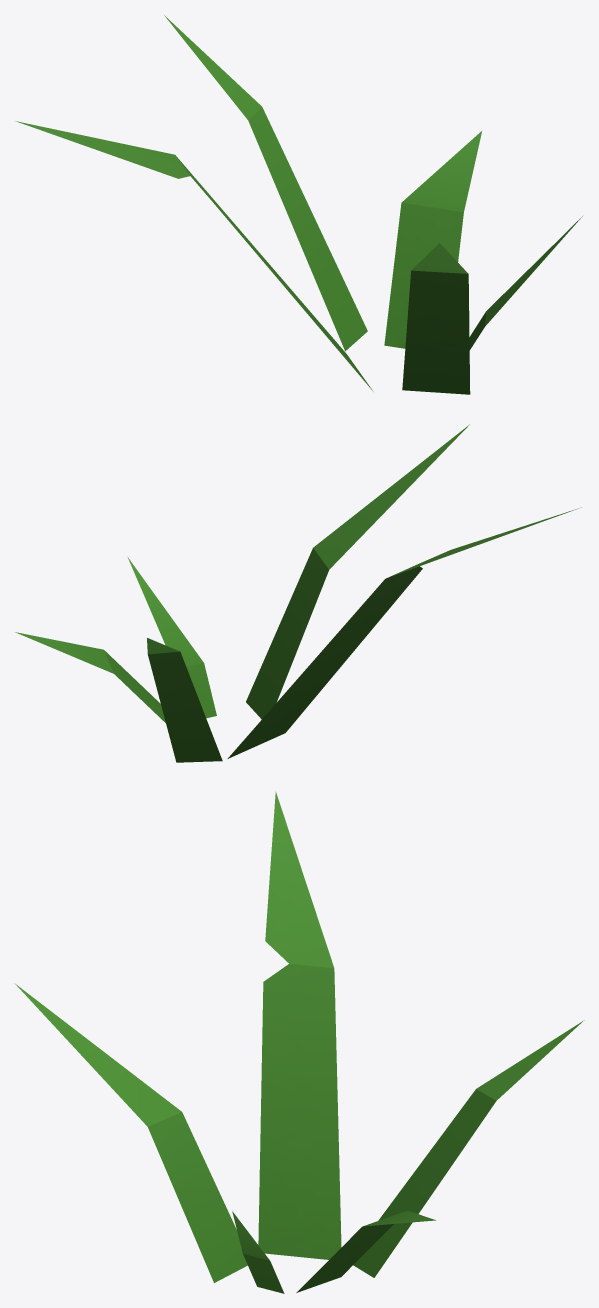
Rendered from grass_patch_06_singlesided.fbx.
3 renders of one model, top to bottom at view 1: azimuth 30°, elevation 25°; view 2: azimuth 150°, elevation 25°; view 3: azimuth 270°, elevation 25°, orthographic. The views are drawn at different scales.
Parts seen in each view (by area): view 1: grass_patch_06_singlesided; view 2: grass_patch_06_singlesided; view 3: grass_patch_06_singlesided.
Part boxes in pixels (x1,y1,x2,y2): grass_patch_06_singlesided: [15, 15, 582, 394]; grass_patch_06_singlesided: [15, 424, 581, 762]; grass_patch_06_singlesided: [14, 791, 584, 1293].
Bounding box in the file's own units: 1 × 0.6 × 1.
1 material, 1 textured.
